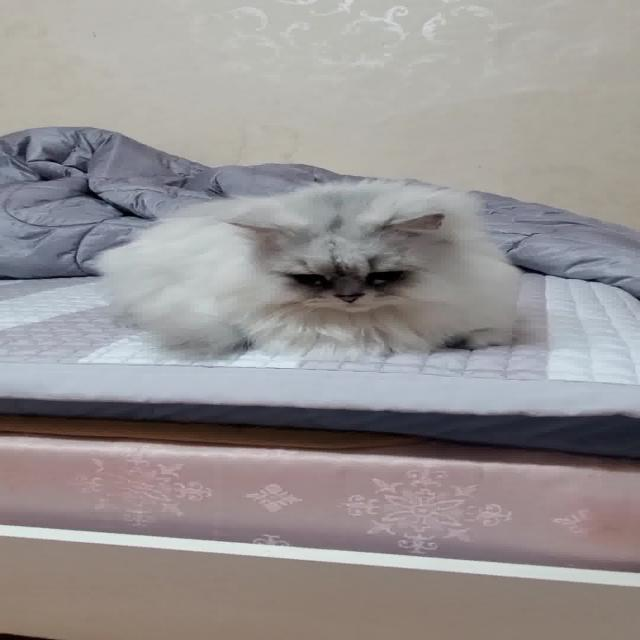cat: (90, 178, 535, 358)
